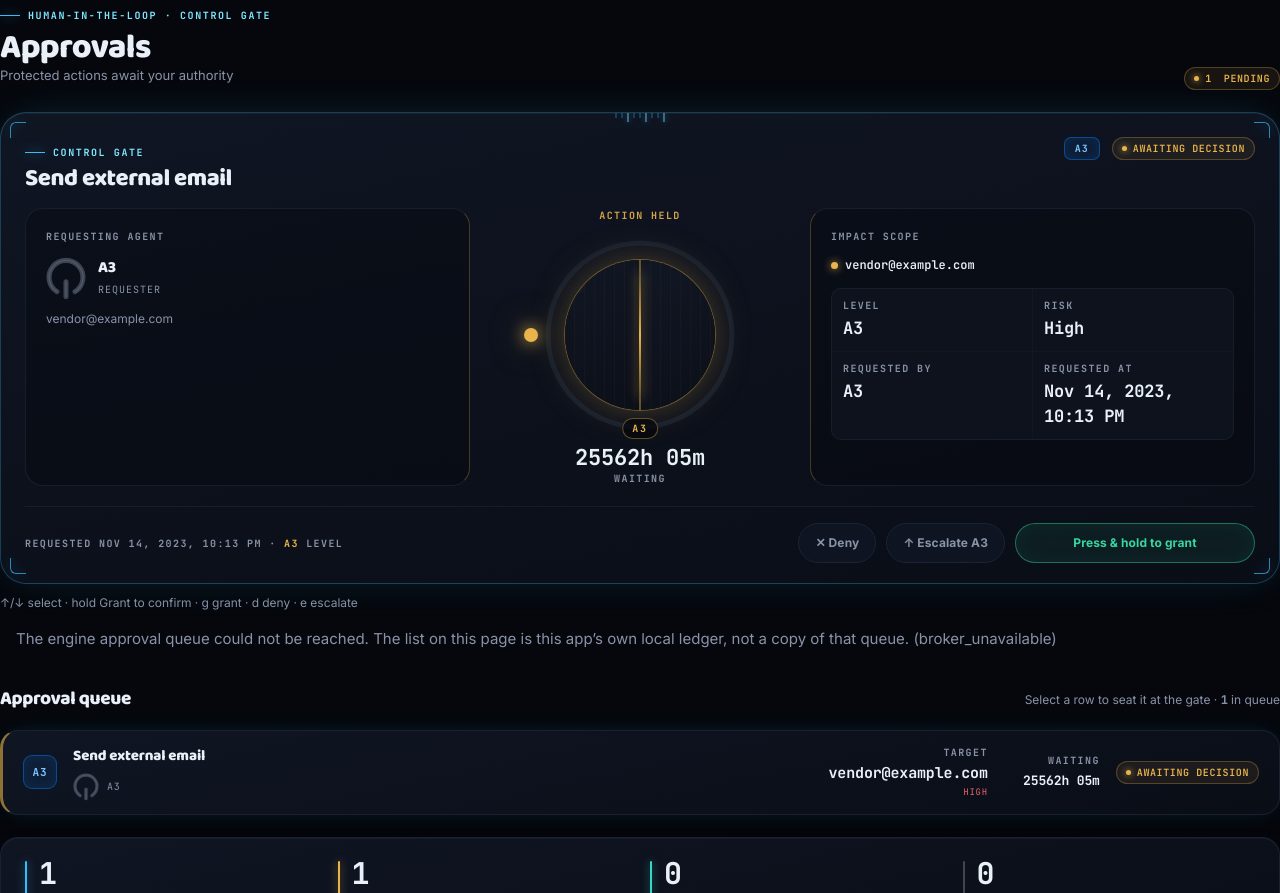
Test: Approvals — Enter on the dialog's Cancel button cancels › Enter on the focused Cancel button does not commit, and is left to the button
Check: the text "vendor@example.com" below "requester" is shown, box top-left (46, 311), bottom-right (173, 326)
Step 1. Click the button with aria-label "Deny — reject this action" → (837, 543), box top-left (798, 523), bottom-right (876, 563)
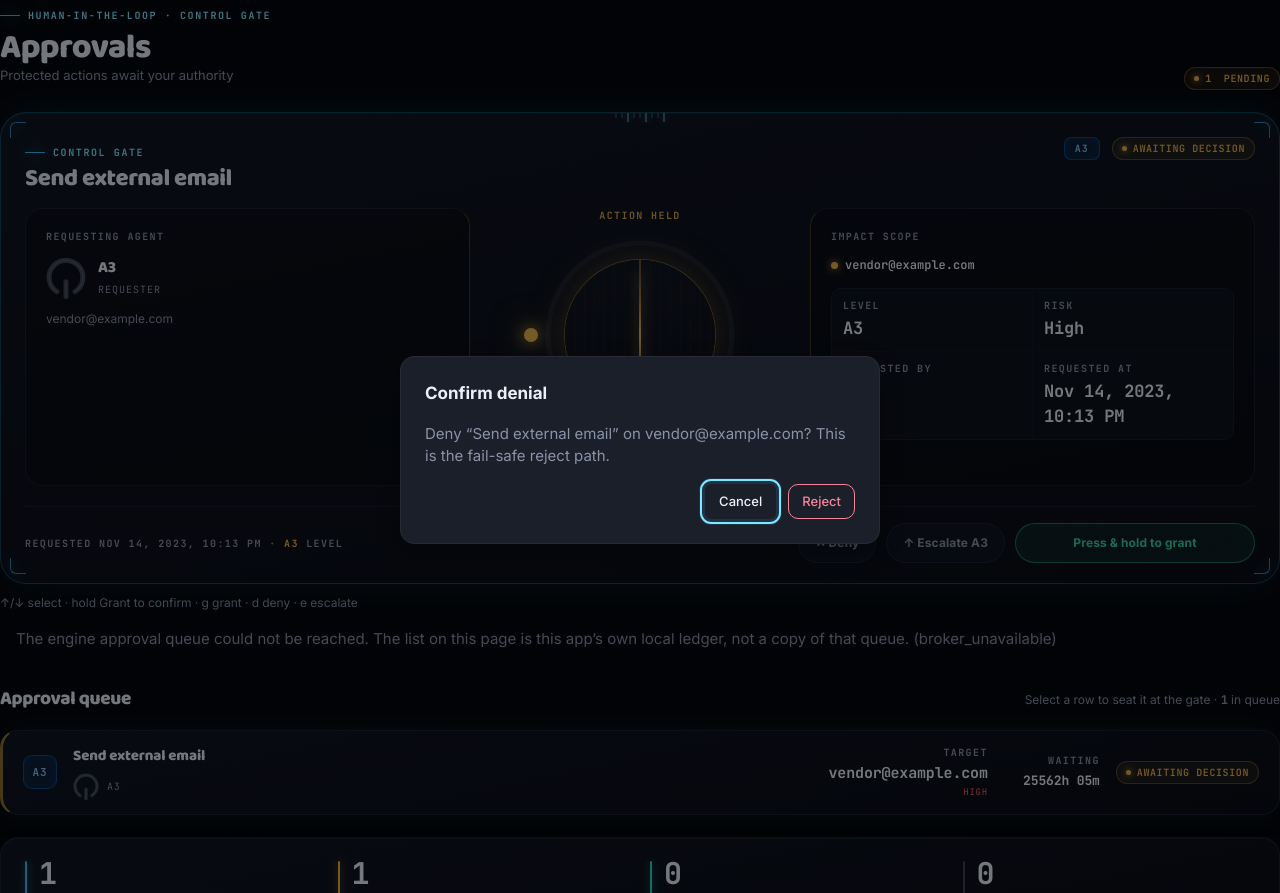
Step 2. Press Enter in the button "Cancel", box top-left (705, 484), bottom-right (776, 519)
Step 3. Click the button "Cancel" → (741, 501), box top-left (705, 484), bottom-right (776, 519)
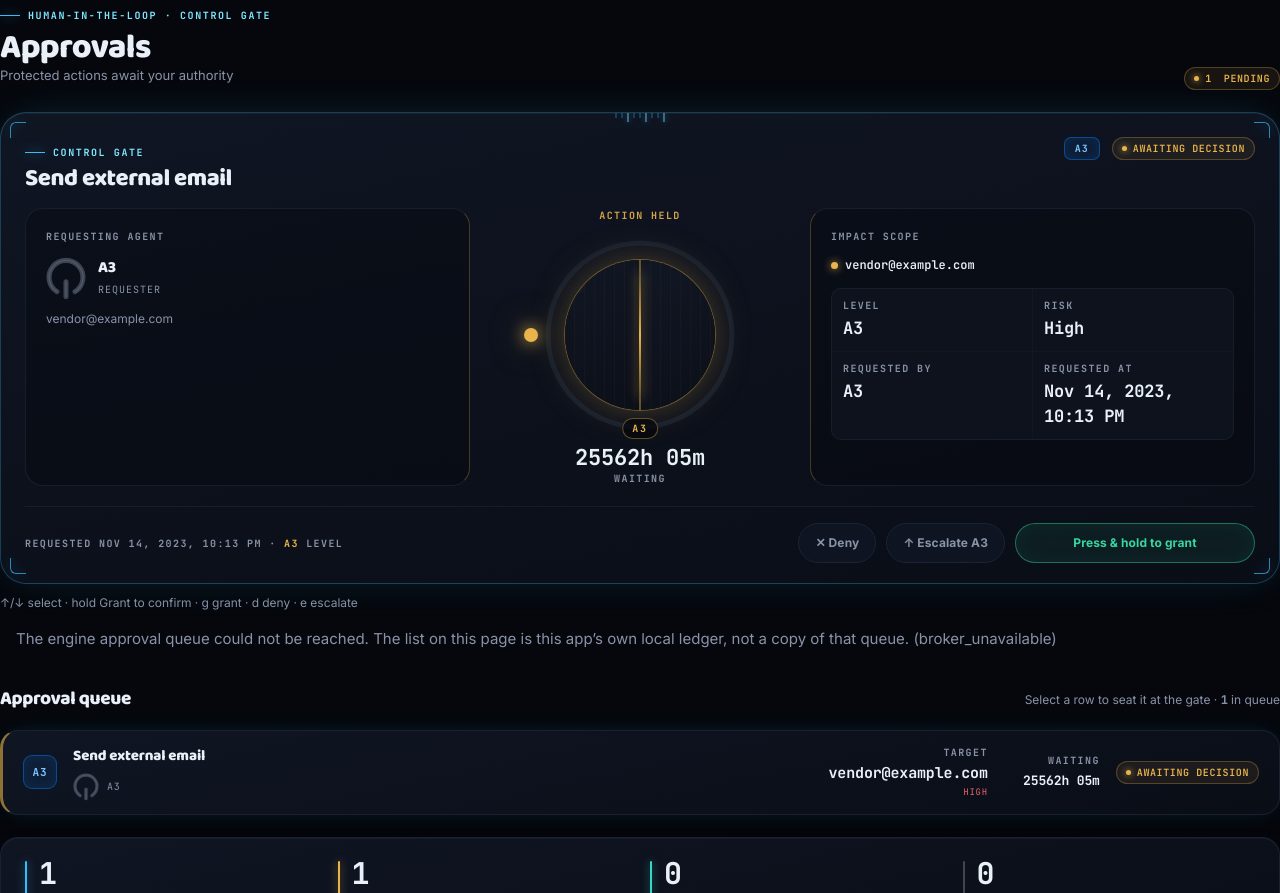
Check: the dialog is gone
